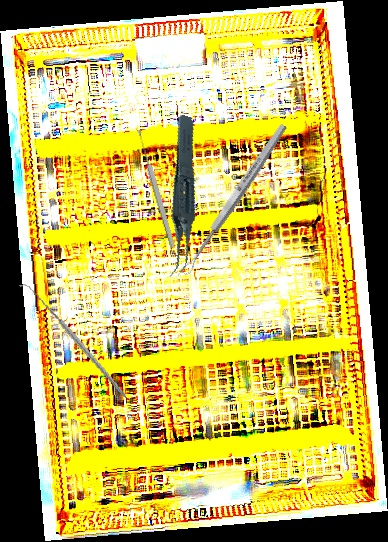Hook Surgical: (19, 269, 127, 414)
Surgical Spoon: (178, 121, 290, 278), (135, 128, 177, 249)
Tissue Forceps: (135, 113, 226, 281)
